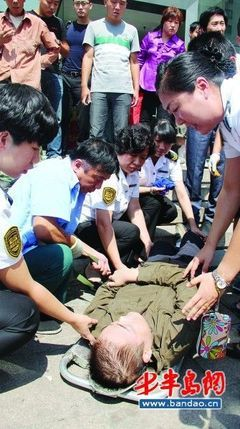fall: (75, 225, 208, 395)
